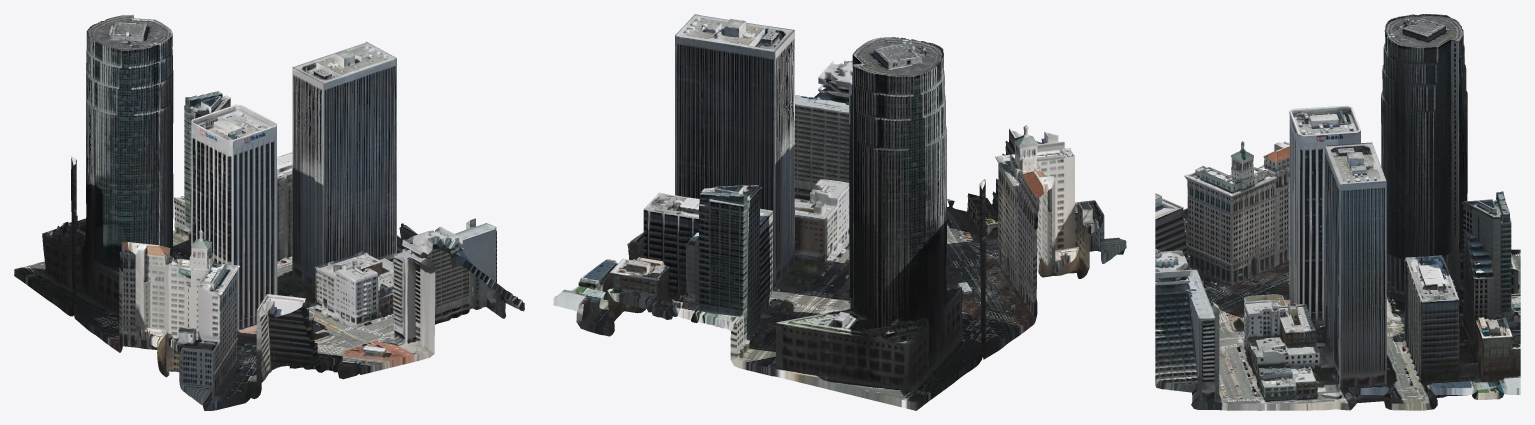
File: z17-20972-50653-h0-yup-uvflip-v3-world.glb
3 renders of one model, left to right at view 1: azimuth 30°, elevation 25°; view 2: azimuth 150°, elevation 25°; view 3: azimuth 270°, elevation 25°, orthographic. The views are drawn at different scales.
Size of the model in its own units: 242 by 194 by 243.
Materials: 1 (1 with a texture image).
